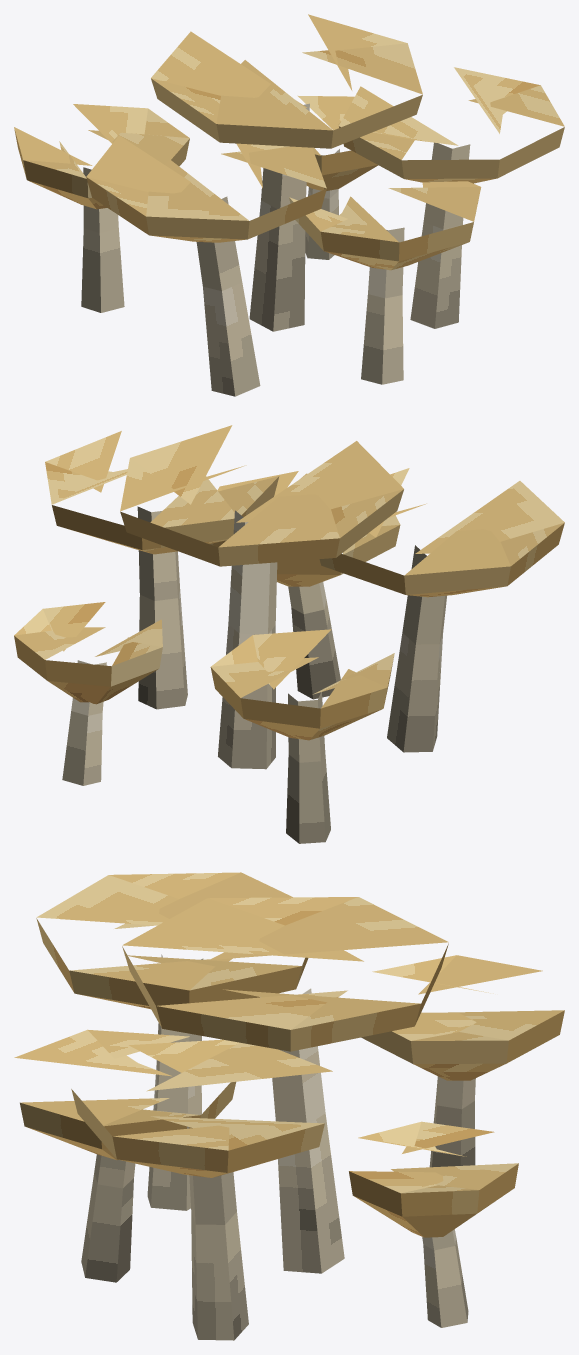
Rendered from chanterelles.glb.
3 renders of one model, top to bottom at view 1: azimuth 30°, elevation 25°; view 2: azimuth 150°, elevation 25°; view 3: azimuth 270°, elevation 25°, orthographic. The views are drawn at different scales.
Visible parts, largest first — view 1: capm_2, capm_6, capm_4, capm_12, capm_8, stem_1, stem_5, stem_3, stem_11, stem_7, capm_10, stem_9; view 2: capm_2, capm_6, capm_8, capm_4, capm_10, stem_5, stem_1, stem_3, stem_7, stem_11, capm_12, stem_9; view 3: capm_2, capm_6, capm_4, capm_8, capm_10, stem_1, capm_12, stem_3, stem_11, stem_5, stem_9, stem_7.
Boxes of the visible parts, box(x1,y1,x2,y2) form: capm_2: box(151, 14, 422, 148); capm_6: box(86, 135, 326, 242); capm_4: box(339, 67, 564, 183); capm_12: box(289, 181, 481, 270); capm_8: box(14, 104, 189, 209); stem_1: box(249, 103, 309, 331); stem_5: box(196, 196, 260, 396); stem_3: box(410, 142, 470, 328); stem_11: box(361, 227, 404, 384); stem_7: box(81, 167, 124, 312); capm_10: box(297, 95, 378, 190); stem_9: box(305, 149, 339, 259); capm_2: box(120, 425, 403, 566); capm_6: box(319, 468, 564, 597); capm_8: box(210, 629, 394, 740); capm_4: box(45, 431, 279, 554); capm_10: box(14, 602, 162, 704); stem_5: box(387, 545, 446, 752); stem_1: box(218, 510, 277, 769); stem_3: box(137, 506, 187, 709); stem_7: box(286, 692, 330, 843); stem_11: box(288, 582, 340, 699); capm_12: box(210, 471, 400, 586); stem_9: box(62, 660, 106, 785); capm_2: box(122, 897, 448, 1051); capm_6: box(36, 872, 308, 1009); capm_4: box(71, 1039, 332, 1177); capm_8: box(361, 955, 564, 1080); capm_10: box(349, 1121, 518, 1237); stem_1: box(272, 988, 344, 1273); capm_12: box(14, 1029, 236, 1159); stem_3: box(187, 1126, 248, 1340); stem_11: box(81, 1154, 135, 1282); stem_5: box(147, 954, 203, 1210); stem_9: box(422, 1229, 468, 1327); stem_7: box(429, 1076, 475, 1167).
Bounding box in the file's own units: 13.44 × 7.28 × 11.96.
Materials: 1 (1 with a texture image).
